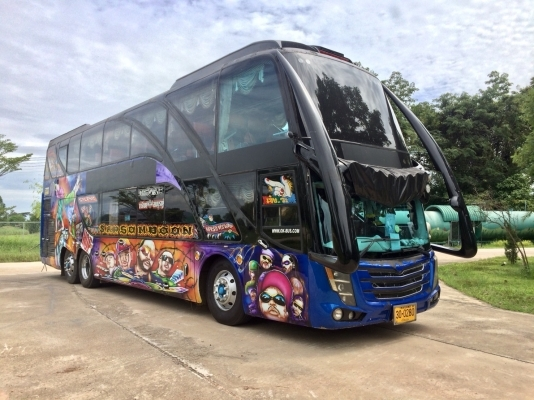bus: (39, 37, 444, 332)
